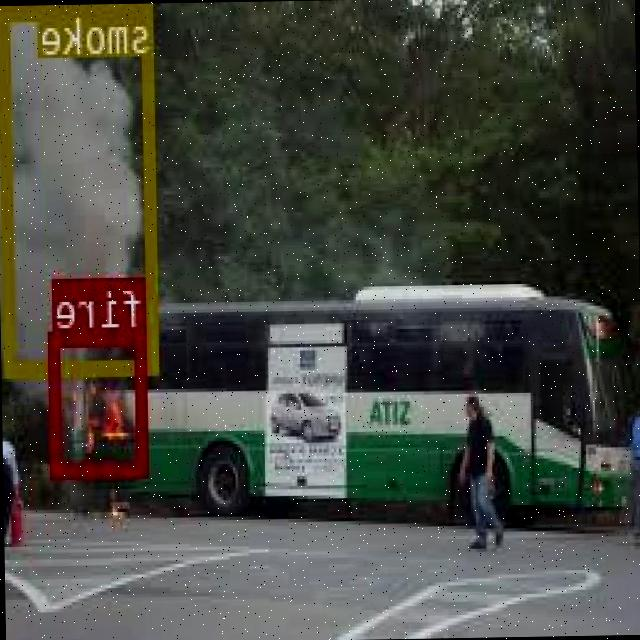fire: (51, 328, 150, 474)
smoke: (1, 2, 160, 374)
